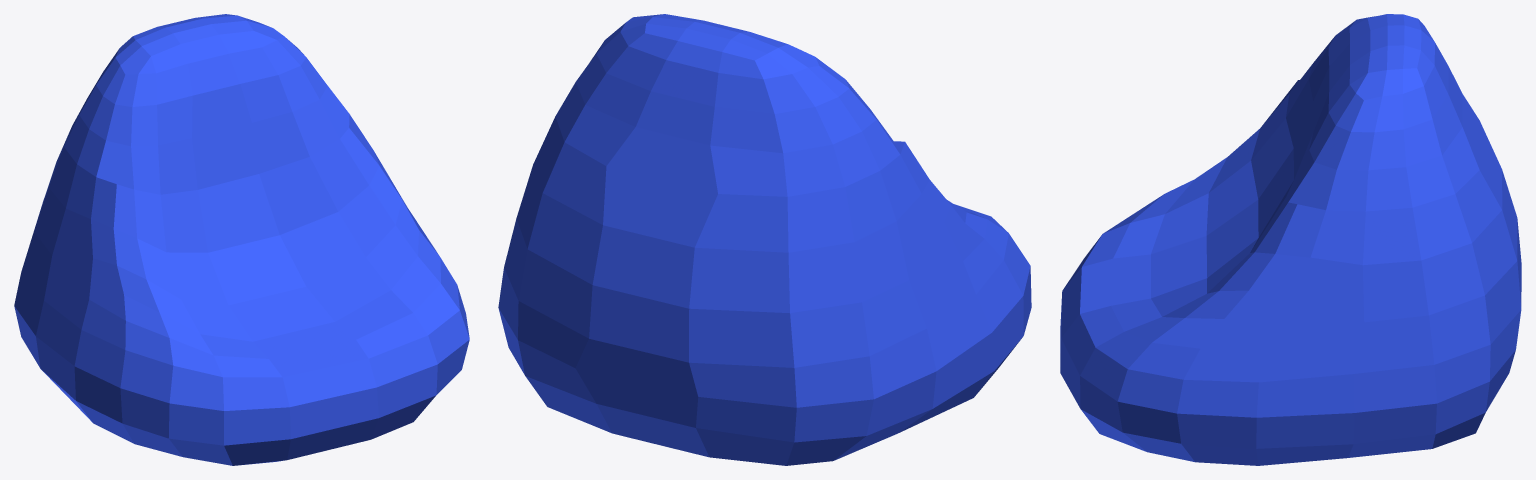
File: beaniebag.fbx
The picture shows the model from 3 angles, left to right: view 1: azimuth 30°, elevation 25°; view 2: azimuth 150°, elevation 25°; view 3: azimuth 270°, elevation 25°; orthographic projection. The views are drawn at different scales.
Parts seen in each view (by area): view 1: Cube; view 2: Cube; view 3: Cube.
Part boxes in pixels (<box>): Cube: <box>14,14,469,465</box>; Cube: <box>498,14,1031,465</box>; Cube: <box>1060,14,1521,465</box>.
Bounding box in the file's own units: 123 × 109 × 124.
